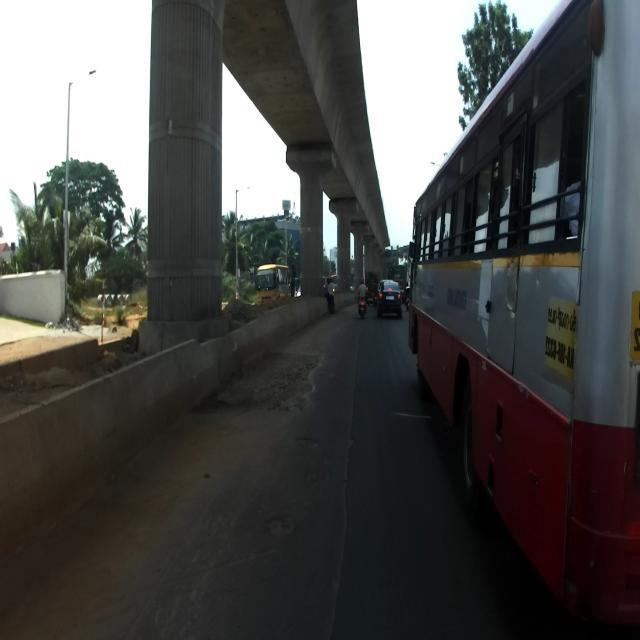Pothole: (202, 317, 316, 422), (248, 481, 319, 559)
